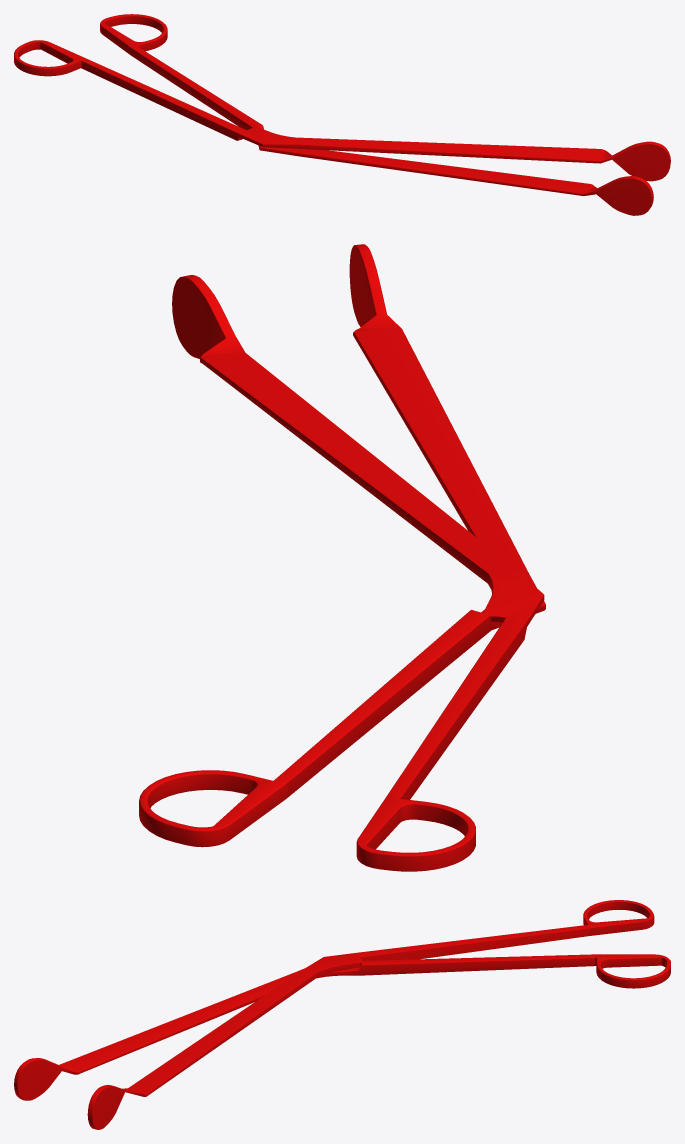
The model's file is Medical_instrument_3.fbx.
The picture shows the model from 3 angles, top to bottom: view 1: azimuth 30°, elevation 25°; view 2: azimuth 150°, elevation 25°; view 3: azimuth 270°, elevation 25°; orthographic projection. The views are drawn at different scales.
Visible parts, largest first — view 1: L33:polySurface1405; view 2: L33:polySurface1405; view 3: L33:polySurface1405.
Boxes of the visible parts, left/top/right/bottom form: L33:polySurface1405: left=14, top=14, right=670, bottom=215; L33:polySurface1405: left=139, top=244, right=545, bottom=871; L33:polySurface1405: left=14, top=900, right=670, bottom=1129.
Size of the model in its own units: 24.68 by 2.39 by 33.71.
